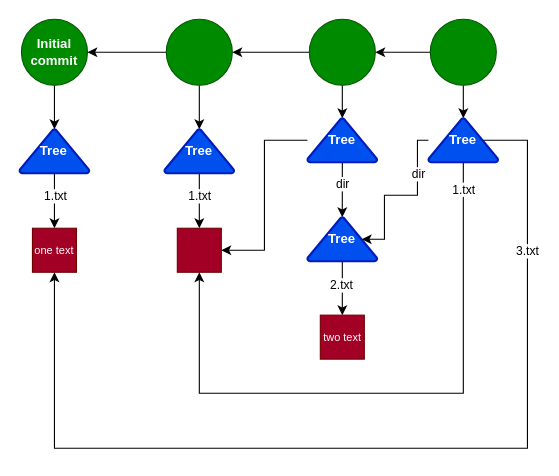
Image size: 559x476. Some labels were removed from this diagram. Each missing label, with the centre of its shape:
"Fourth commit" belongs at (462,51).
"one text a change" belongs at (198,249).
"Second commit" belongs at (198,51).
"Third Commit" belongs at (341,51).
